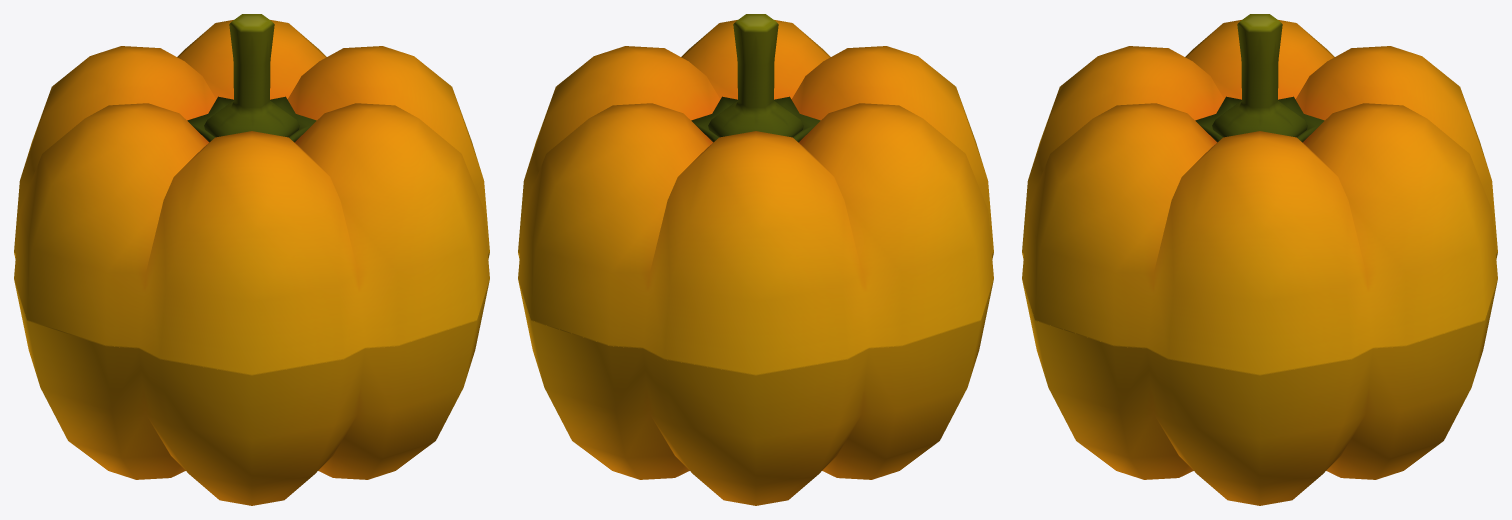
Rendered from Pepper Yellow.fbx.
The picture shows the model from 3 angles, left to right: view 1: azimuth 30°, elevation 25°; view 2: azimuth 150°, elevation 25°; view 3: azimuth 270°, elevation 25°; orthographic projection.
Visible parts, largest first — view 1: Pepper_R_Whole, Pepper_R_Half_Top, Pepper_R_Half_Botton; view 2: Pepper_R_Whole, Pepper_R_Half_Top, Pepper_R_Half_Botton; view 3: Pepper_R_Whole, Pepper_R_Half_Top, Pepper_R_Half_Botton.
Part boxes in pixels (<box>): Pepper_R_Whole: <box>14,14,489,505</box>; Pepper_R_Half_Top: <box>14,181,489,374</box>; Pepper_R_Half_Botton: <box>14,253,489,439</box>; Pepper_R_Whole: <box>518,14,993,505</box>; Pepper_R_Half_Top: <box>518,181,993,374</box>; Pepper_R_Half_Botton: <box>518,253,993,439</box>; Pepper_R_Whole: <box>1022,14,1497,505</box>; Pepper_R_Half_Top: <box>1022,181,1497,374</box>; Pepper_R_Half_Botton: <box>1022,253,1497,439</box>.
Size of the model in its own units: 2.3 by 2.08 by 2.11.
